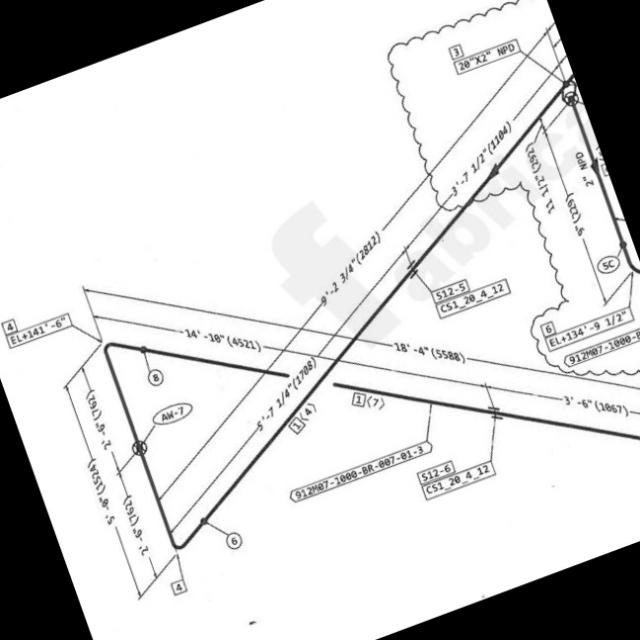Item number: (450, 32, 524, 75), (415, 454, 459, 487), (430, 272, 473, 305), (286, 408, 313, 435), (166, 574, 189, 595), (539, 315, 557, 338), (1, 316, 20, 337), (349, 389, 368, 407)
Measrement: (307, 80, 512, 306), (181, 347, 316, 520), (63, 367, 142, 602), (90, 303, 308, 357), (542, 128, 602, 289), (345, 356, 560, 391), (484, 375, 639, 419), (110, 462, 158, 584)
Pipeline: (97, 78, 584, 555)
Weld number: (151, 396, 195, 427), (595, 253, 623, 276), (223, 528, 245, 550)
other: (288, 436, 435, 502), (544, 302, 634, 353), (432, 271, 515, 321), (418, 453, 501, 503), (6, 305, 76, 351)
